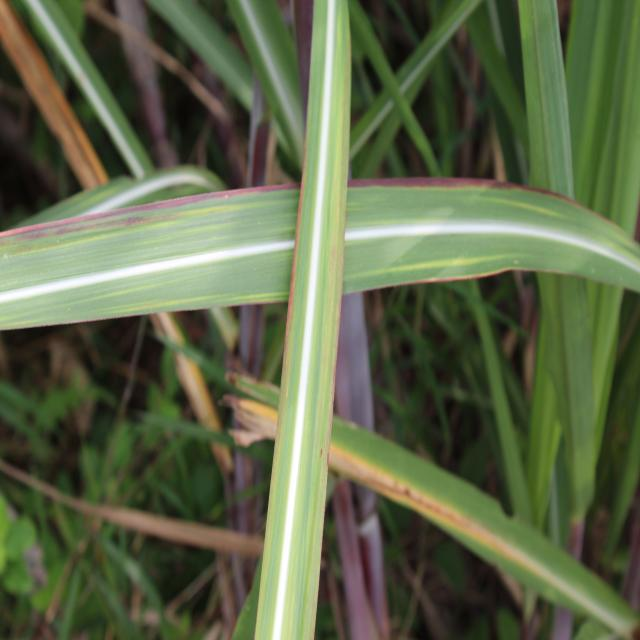Sugarcane: (329, 404, 640, 640), (257, 0, 344, 640), (0, 178, 296, 338), (345, 174, 640, 323)
